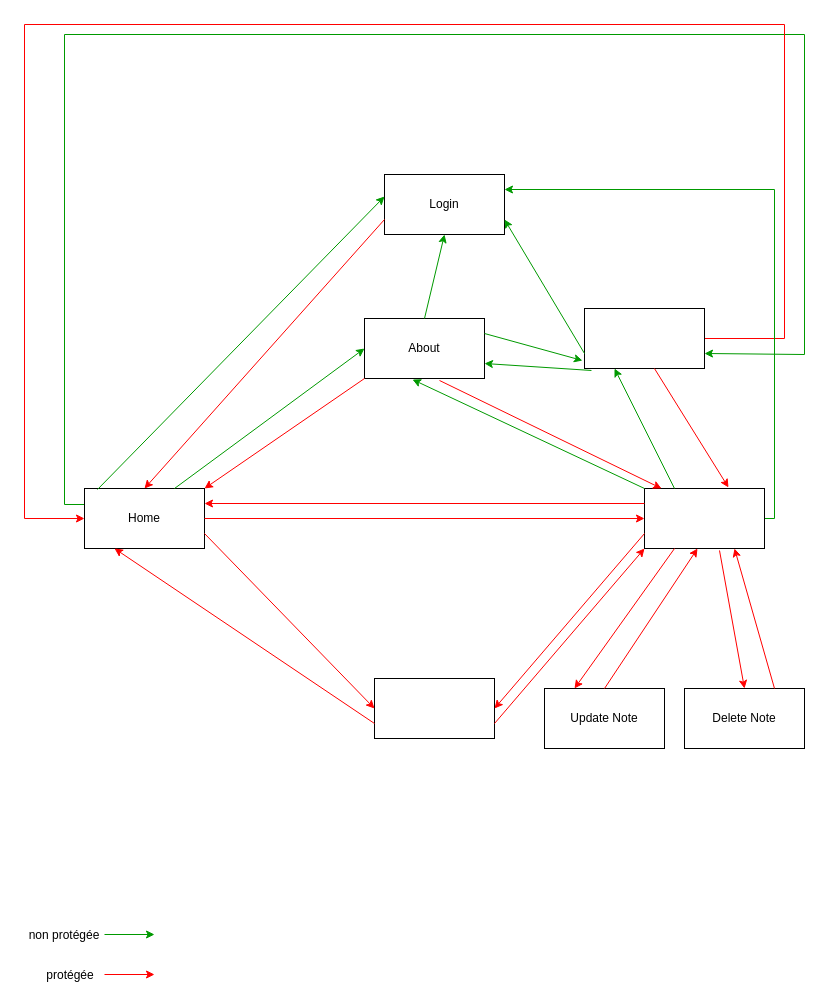
Image size: 830x1008. Some labels were removed from this diagram. The centre of each missing label's shape, as x and y in pixels:
"Add Note" goes at pixel 434 708.
"Impressum" goes at pixel 644 338.
"My Notes" goes at pixel 704 518.
